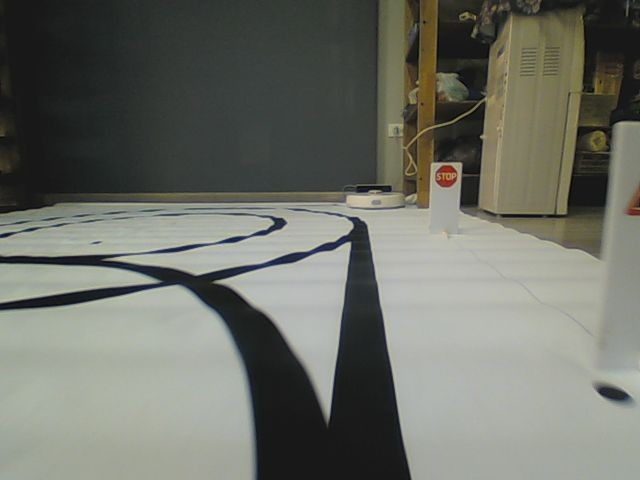Stop: (434, 164, 457, 189)
